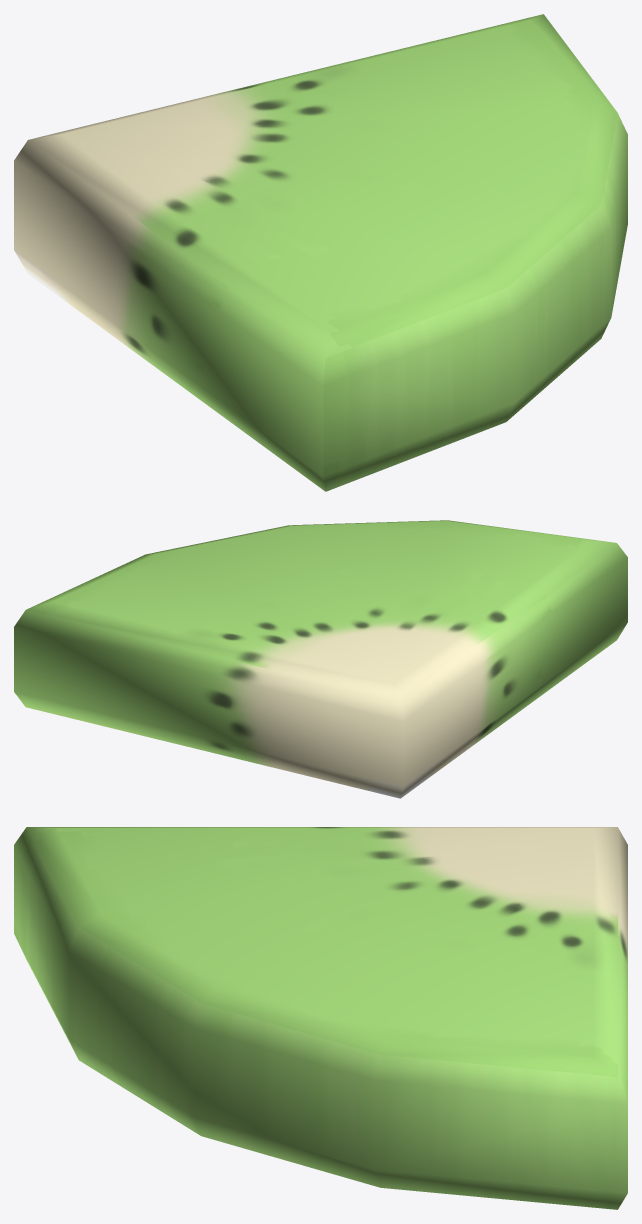
The model's file is slicedkiwi.fbx.
3 views of the same model, one above another, from view 1: azimuth 30°, elevation 25°; view 2: azimuth 150°, elevation 25°; view 3: azimuth 270°, elevation 25° (orthographic). The views are drawn at different scales.
Parts seen in each view (by area): view 1: 키위2; view 2: 키위2; view 3: 키위2.
Boxes of the visible parts, x1,y1,x2,y2 form: 키위2: [14, 14, 627, 491]; 키위2: [14, 520, 627, 798]; 키위2: [14, 827, 627, 1209].
Size of the model in its own units: 218 by 59.31 by 218.
